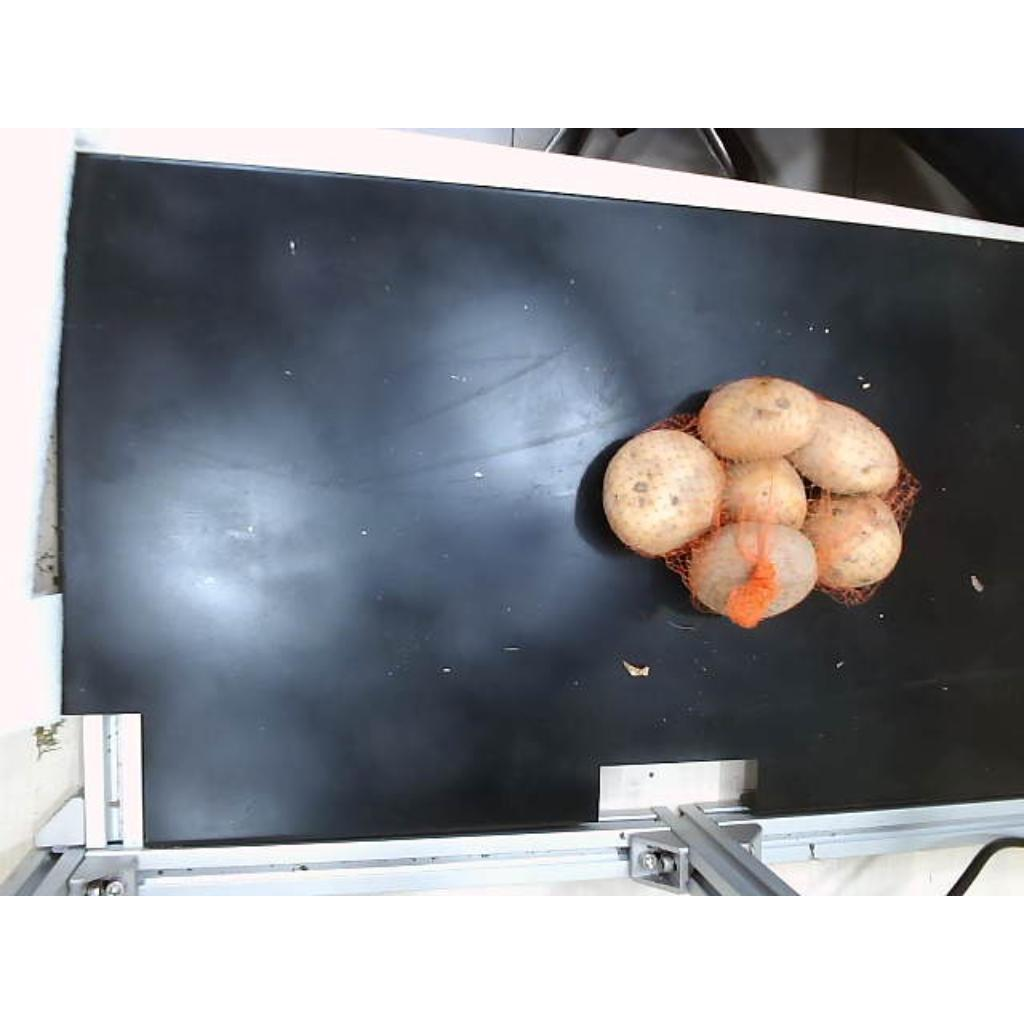potato: (602, 430, 726, 556), (688, 524, 816, 627), (788, 400, 900, 494), (698, 376, 818, 461), (802, 494, 902, 589), (722, 460, 806, 527)
